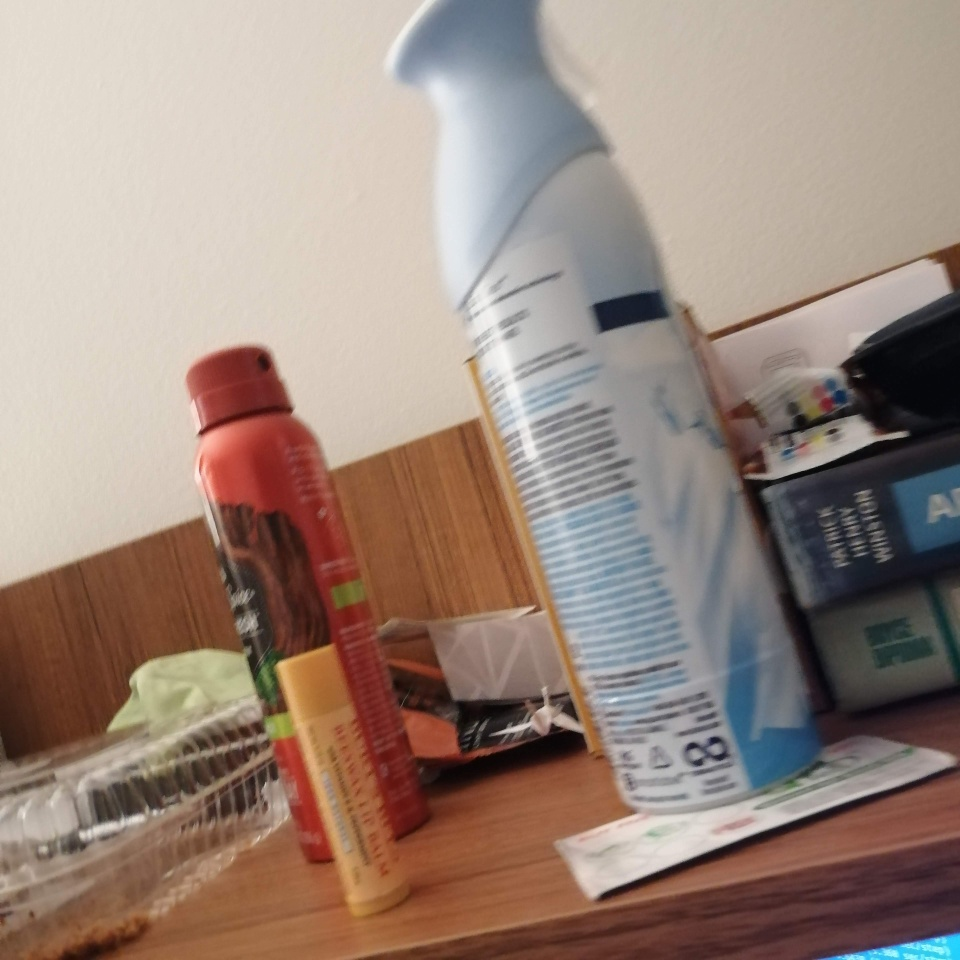chapstick: (270, 643, 414, 921)
